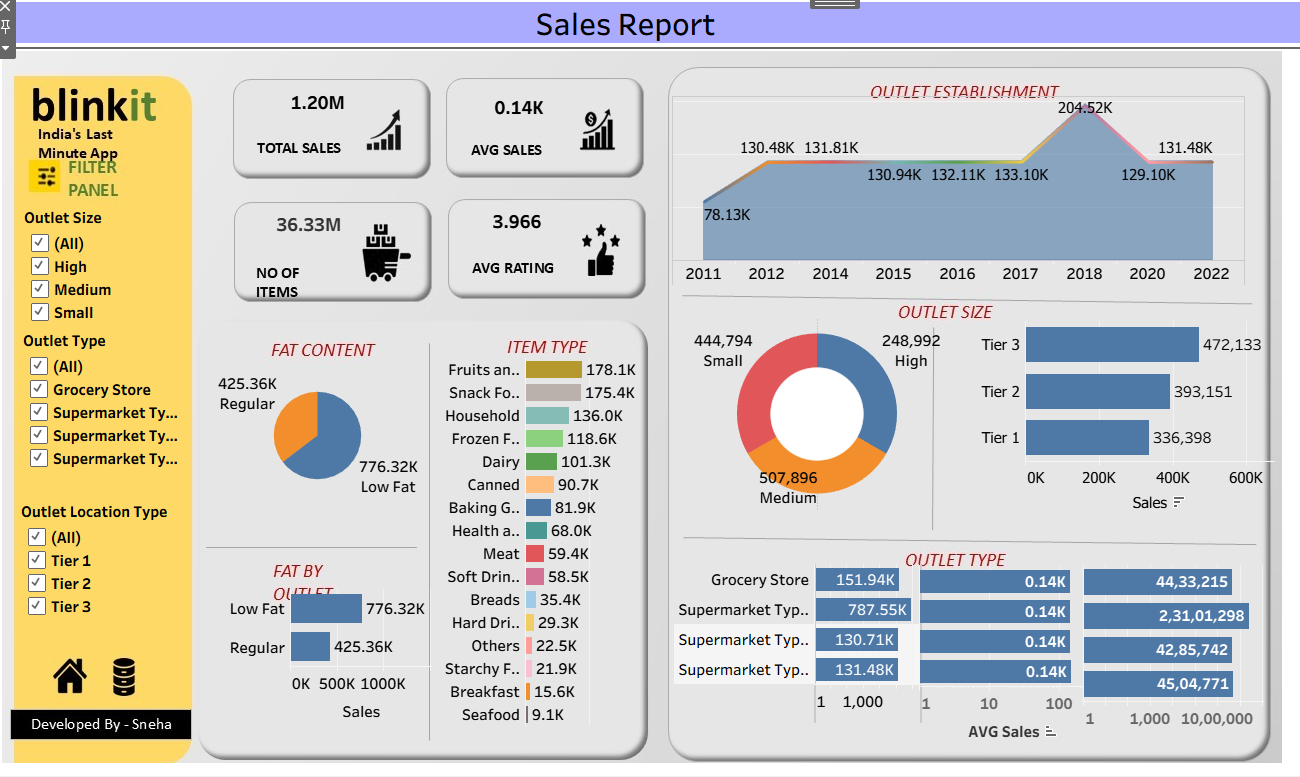

Layout of this report page (visuals, bound fields, positions):
{"tool":"tableau","page":{"name":"Dashboard 1","canvas":[1000,1000],"units":"permille","ordinal":0},"visuals":[{"type":"title","box":[4.7,10.2,990.5,62.4]},{"type":"image","param":"C:/Users/Sneha/OneDrive/Desktop/Blinkit them. image1.jpg","box":[4.7,72.6,990.5,917.2]},{"type":"worksheet","title":"Total Sales","mark":"Automatic","box":[153.3,119.9,72.4,51.2]},{"type":"worksheet","title":"AVG Sales","mark":"Automatic","box":[280.6,119.9,67.6,56.2]},{"type":"worksheet","title":"Outlet estamblishment year","mark":"Area","rows":["Outlet Establishment Year","Outlet Establishment Year"],"cols":["Outlet Establishment Year"],"box":[403.3,135,338.9,242]},{"type":"worksheet","title":"No. of Item","mark":"Automatic","box":[148.5,272.2,83.9,54.9]},{"type":"filter","title":"outlay size by location type","param":"[federated.0zvqbl60kbamb51b7wayt17t90j2].[none:Outlet Size:nk]","box":[19.9,275.9,96.6,149.8]},{"type":"worksheet","title":"AVG Rating","mark":"Automatic","box":[293.9,277.2,51.3,46.2]},{"type":"worksheet","title":"Outlet Size","mark":"Pie","cols":["Calculation_0123184313032705","Calculation_0123184313032705"],"box":[415.8,417,146.7,248.4]},{"type":"worksheet","title":"outlay size by location type","mark":"Automatic","rows":["Outlet Location Type"],"cols":["Sales"],"box":[576.3,422,183.5,252.2]},{"type":"filter","title":"outlay size by location type","param":"[federated.0zvqbl60kbamb51b7wayt17t90j2].[none:Outlet Type:nk]","box":[19.3,433.2,96.6,197.2]},{"type":"worksheet","title":"Fact Content","mark":"Pie","box":[126.1,455.7,135.2,223.5]},{"type":"worksheet","title":"Item Type","mark":"Automatic","rows":["Item Type"],"cols":["Sales"],"box":[269.2,469.4,117.2,468.2]},{"type":"filter","title":"outlay size by location type","param":"[federated.0zvqbl60kbamb51b7wayt17t90j2].[none:Outlet Location Type:nk]","box":[18.1,650.4,96.6,149.8]},{"type":"worksheet","title":"Outlet Type","mark":"Automatic","rows":["Outlet Type"],"cols":["Sales"],"box":[403.9,729.9,147.2,229.3]},{"type":"worksheet","title":"Sr by Outlet Type","mark":"Automatic","rows":["Outlet Type"],"cols":["SR NO"],"box":[646.4,732.5,107,233.1]},{"type":"worksheet","title":"AVG ","mark":"Automatic","rows":["Outlet Type"],"cols":["Sales"],"box":[549.4,733.8,100.5,235.7]},{"type":"worksheet","title":"Fact by Outlet1","mark":"Automatic","rows":["Item Fat Content"],"cols":["Sales"],"box":[130.4,762.8,132.2,178.5]}]}

Visuals, with their boxes on the dashboard's canvas, which has no fixed pixel size, in thousandths of its width and height (x1, y1, x2, y2). These are canvas units, not pixel positions in the 1300x777 screenshot, which may show the page scaled, cropped or inside an application window:
title: x1=5 y1=10 x2=995 y2=73
image: x1=5 y1=73 x2=995 y2=990
"Total Sales" worksheet: x1=153 y1=120 x2=226 y2=171
"AVG Sales" worksheet: x1=281 y1=120 x2=348 y2=176
"Outlet estamblishment year" worksheet (Area marks): x1=403 y1=135 x2=742 y2=377
"No. of Item" worksheet: x1=148 y1=272 x2=232 y2=327
"outlay size by location type" filter: x1=20 y1=276 x2=116 y2=426
"AVG Rating" worksheet: x1=294 y1=277 x2=345 y2=323
"Outlet Size" worksheet (Pie marks): x1=416 y1=417 x2=562 y2=665
"outlay size by location type" worksheet: x1=576 y1=422 x2=760 y2=674
"outlay size by location type" filter: x1=19 y1=433 x2=116 y2=630
"Fact Content" worksheet (Pie marks): x1=126 y1=456 x2=261 y2=679
"Item Type" worksheet: x1=269 y1=469 x2=386 y2=938
"outlay size by location type" filter: x1=18 y1=650 x2=115 y2=800
"Outlet Type" worksheet: x1=404 y1=730 x2=551 y2=959
"Sr by Outlet Type" worksheet: x1=646 y1=732 x2=753 y2=966
"AVG " worksheet: x1=549 y1=734 x2=650 y2=970
"Fact by Outlet1" worksheet: x1=130 y1=763 x2=263 y2=941
